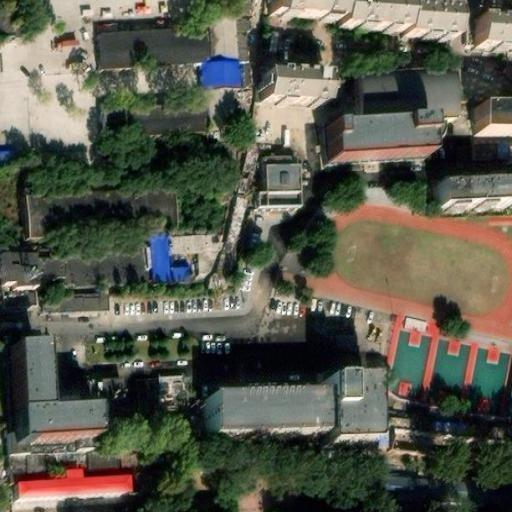building: (12, 369, 93, 467), (19, 192, 168, 242), (95, 23, 227, 78), (203, 394, 321, 440), (88, 380, 161, 453), (386, 428, 512, 469), (96, 100, 202, 141), (352, 89, 451, 128), (13, 476, 126, 509), (322, 132, 422, 169), (320, 385, 369, 451), (427, 172, 512, 202), (0, 246, 63, 286), (143, 243, 188, 292), (198, 70, 231, 135), (129, 372, 180, 414), (264, 92, 327, 125), (220, 188, 247, 263), (251, 170, 297, 214), (395, 6, 450, 40), (437, 480, 502, 505), (40, 288, 110, 311), (469, 16, 512, 49), (265, 0, 337, 19), (468, 134, 512, 163), (465, 104, 512, 131), (162, 238, 216, 260), (0, 287, 36, 310), (52, 29, 79, 48)
